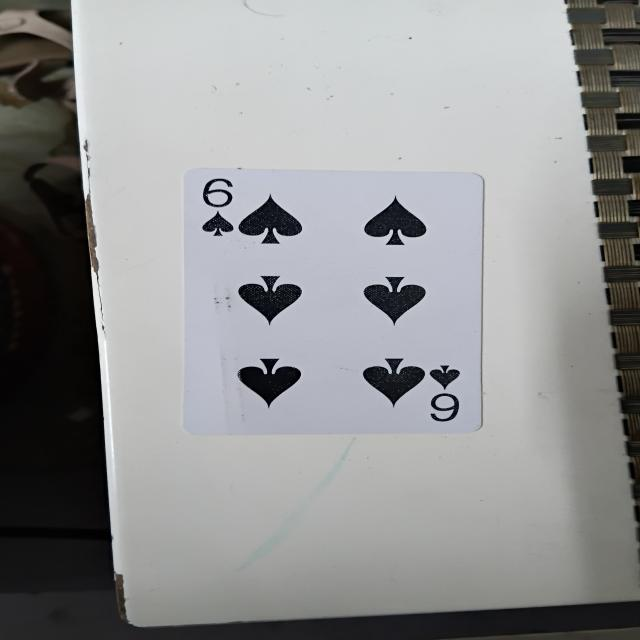6S: (173, 160, 488, 438)
